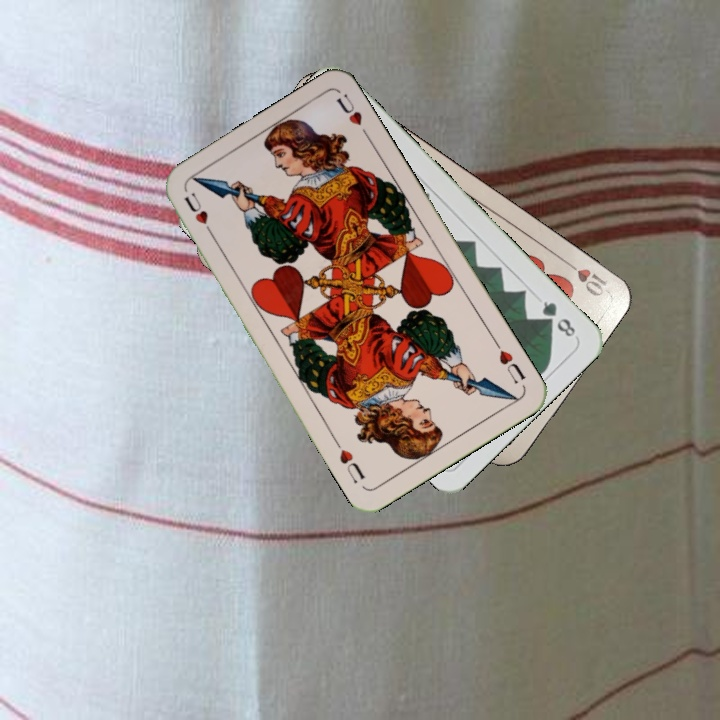G8: (537, 296, 580, 341)
H10: (559, 254, 611, 301)
HU: (180, 188, 218, 241), (490, 337, 528, 387)
